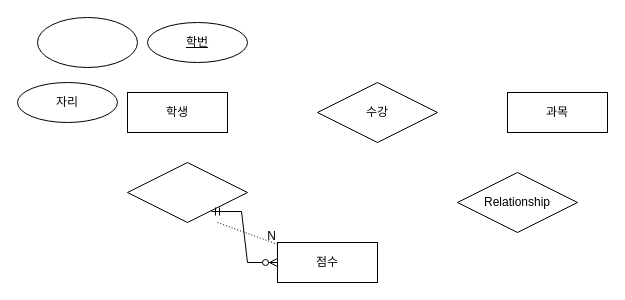
The diagram is 625 pixels wide and 300 high, and some of its shapes have lost their labels. The shapes that lost their labels are listed below. From the top down, each one's centre as x and y in pixels, then its label:
the point at 87,42: 학생이름
the point at 187,192: 성적
